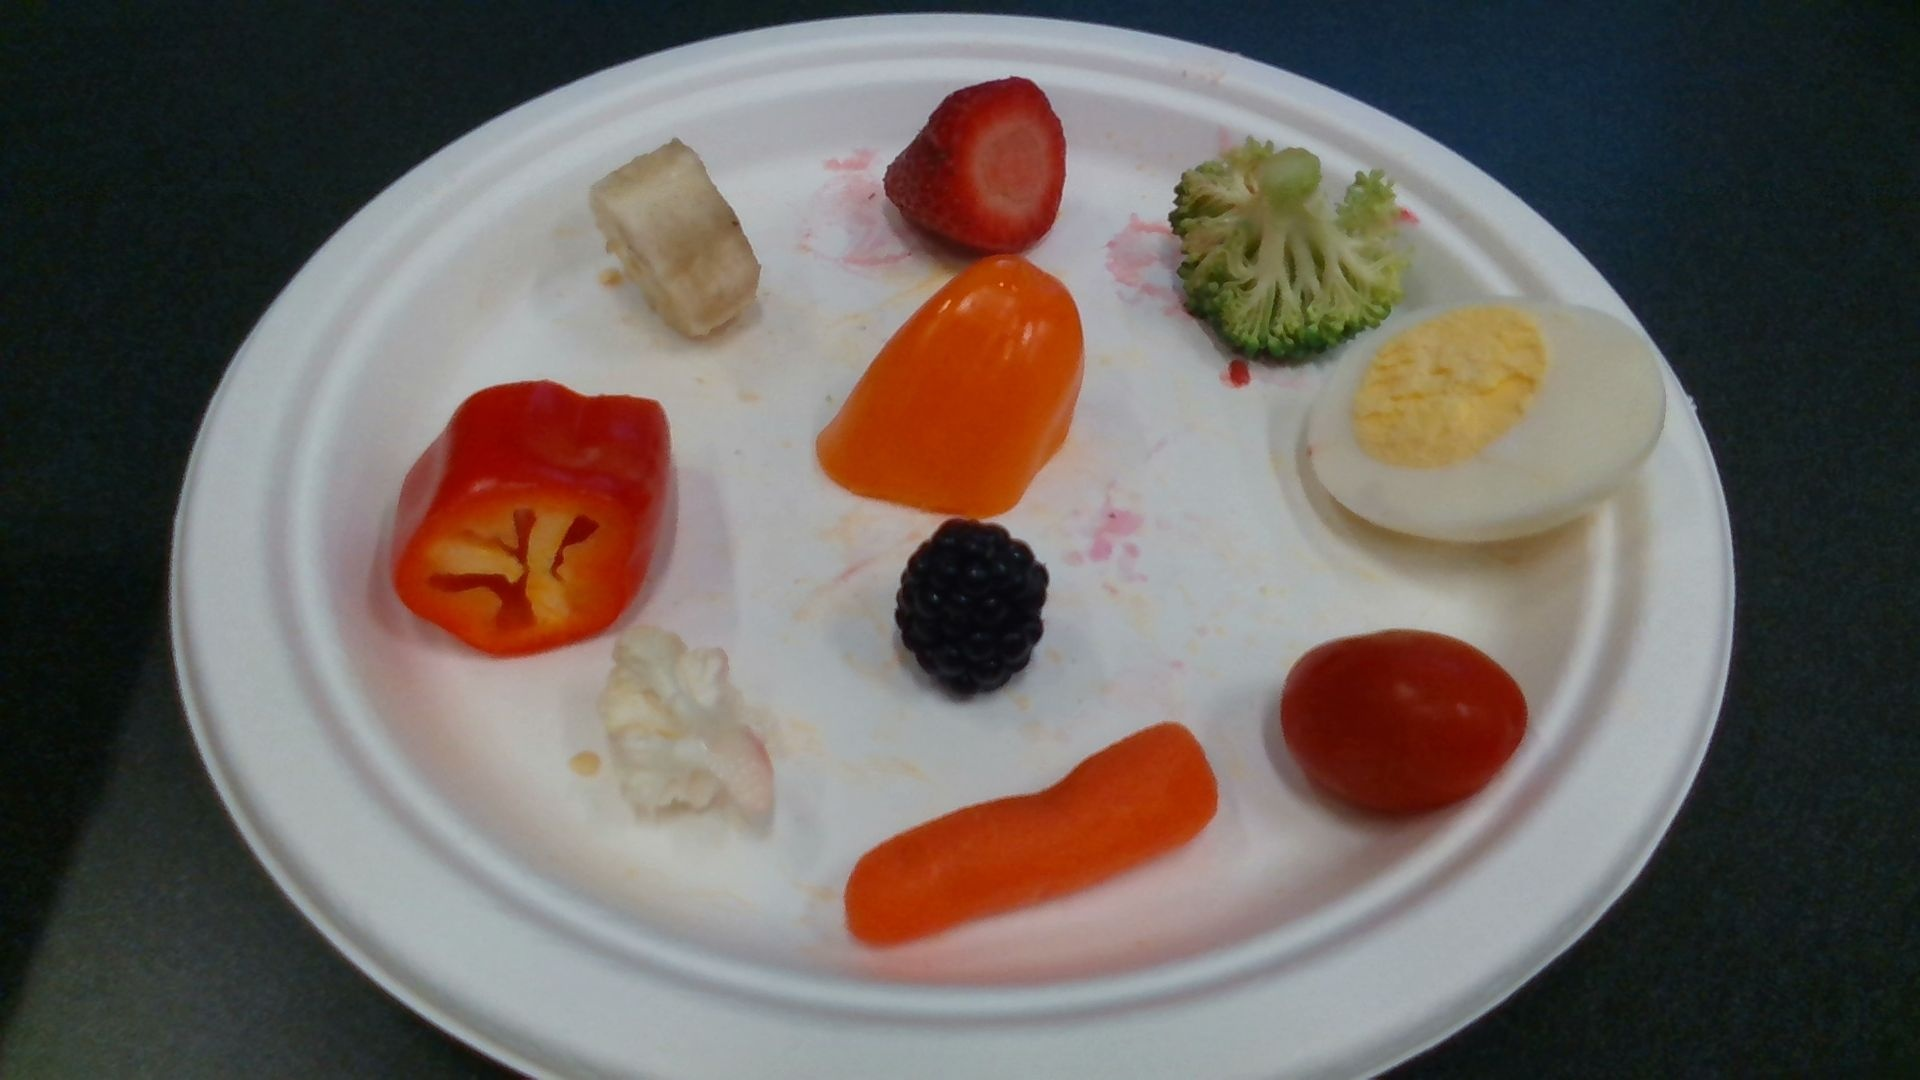banana: (592, 141, 757, 338)
bell_pepper: (392, 381, 665, 651), (820, 251, 1084, 513)
blackberry: (899, 521, 1044, 698)
broccoli: (1174, 141, 1395, 356)
carrot: (849, 723, 1218, 949)
cauliflower: (609, 630, 771, 825)
cherry_tomato: (1284, 630, 1528, 804)
egg: (1315, 290, 1665, 543)
strawberry: (884, 76, 1065, 251)
